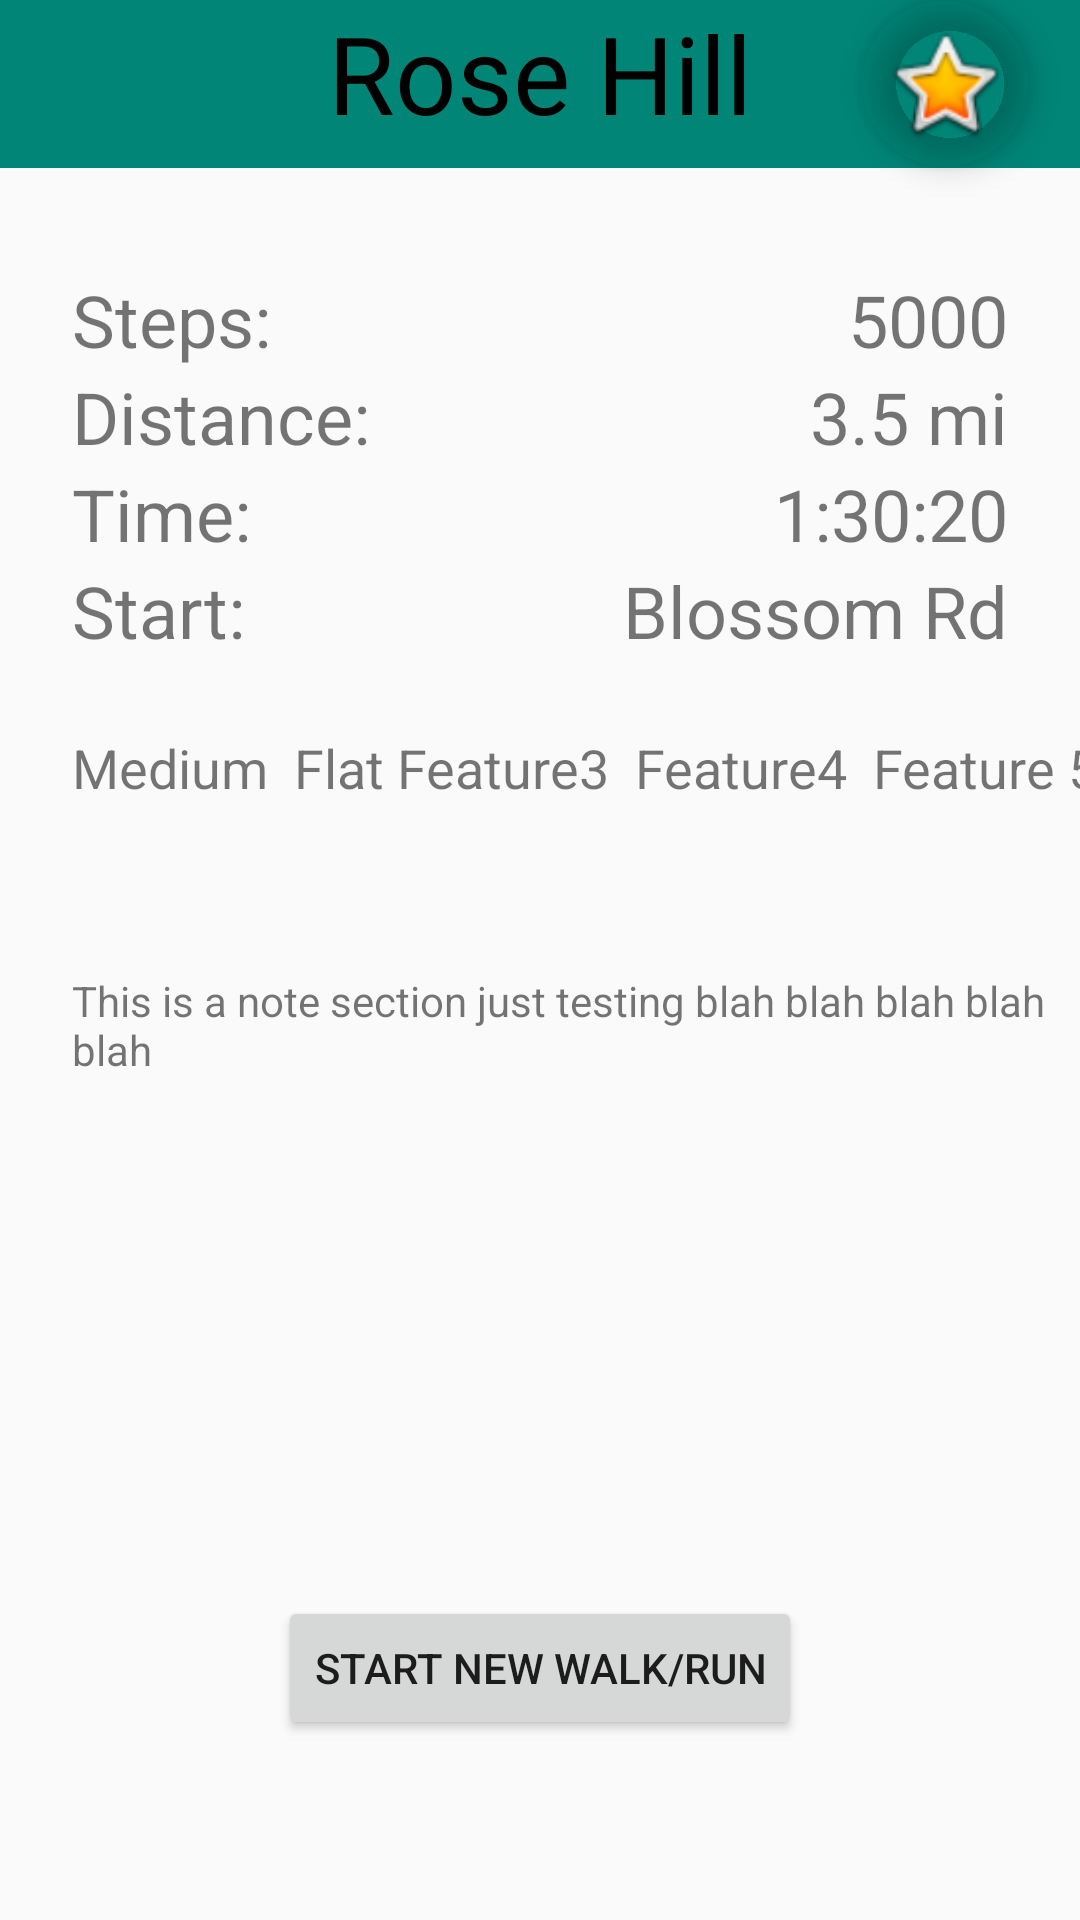

Icons on this 1080w x 1920h Android screen, each with its box as (x1, y1, x2, y2):
star on: (891, 36, 998, 139)
